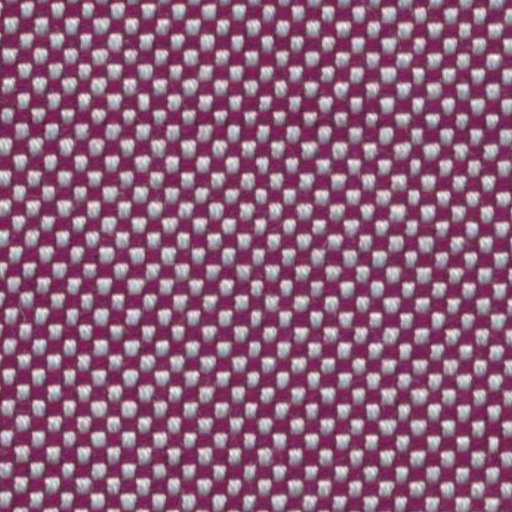TuoSha: (16, 69, 502, 164)
